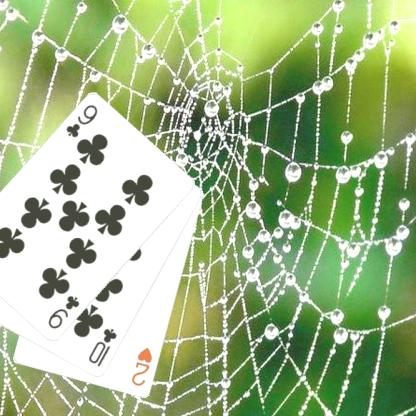10C: (86, 326, 118, 368)
2H: (129, 345, 154, 388)
9C: (62, 102, 100, 140), (45, 293, 81, 331)
